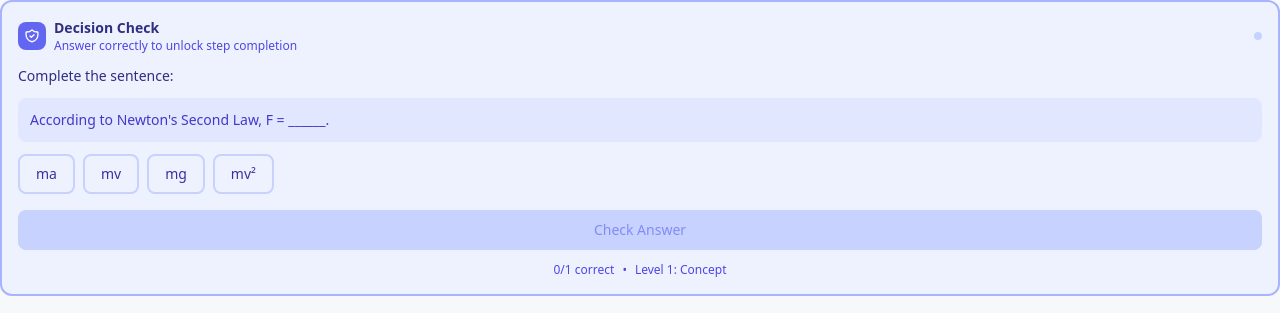
Test: DecisionGate › Fill-in-Blank Selection › allows selecting a fill-blank option
This screenshot has width=1280, height=313.
Click the button "ma".
click(46, 174)  # box [18, 154, 75, 194]
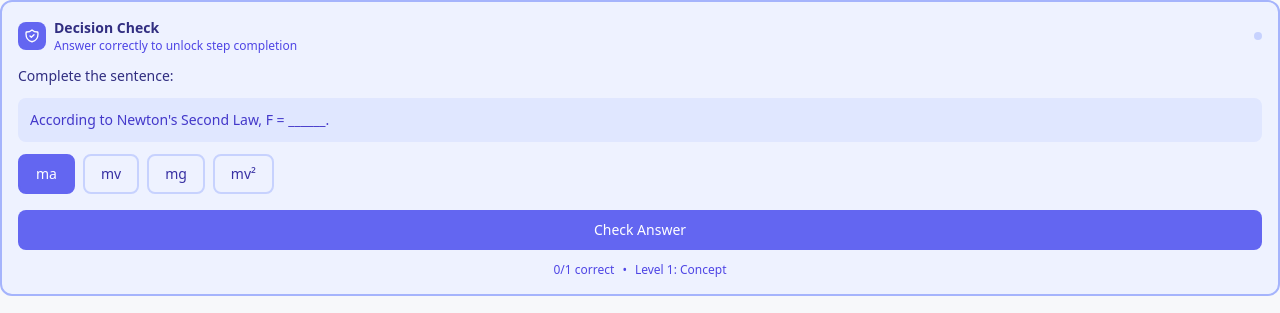
Now the button "Check Answer" is enabled, box [18, 210, 1262, 250]
